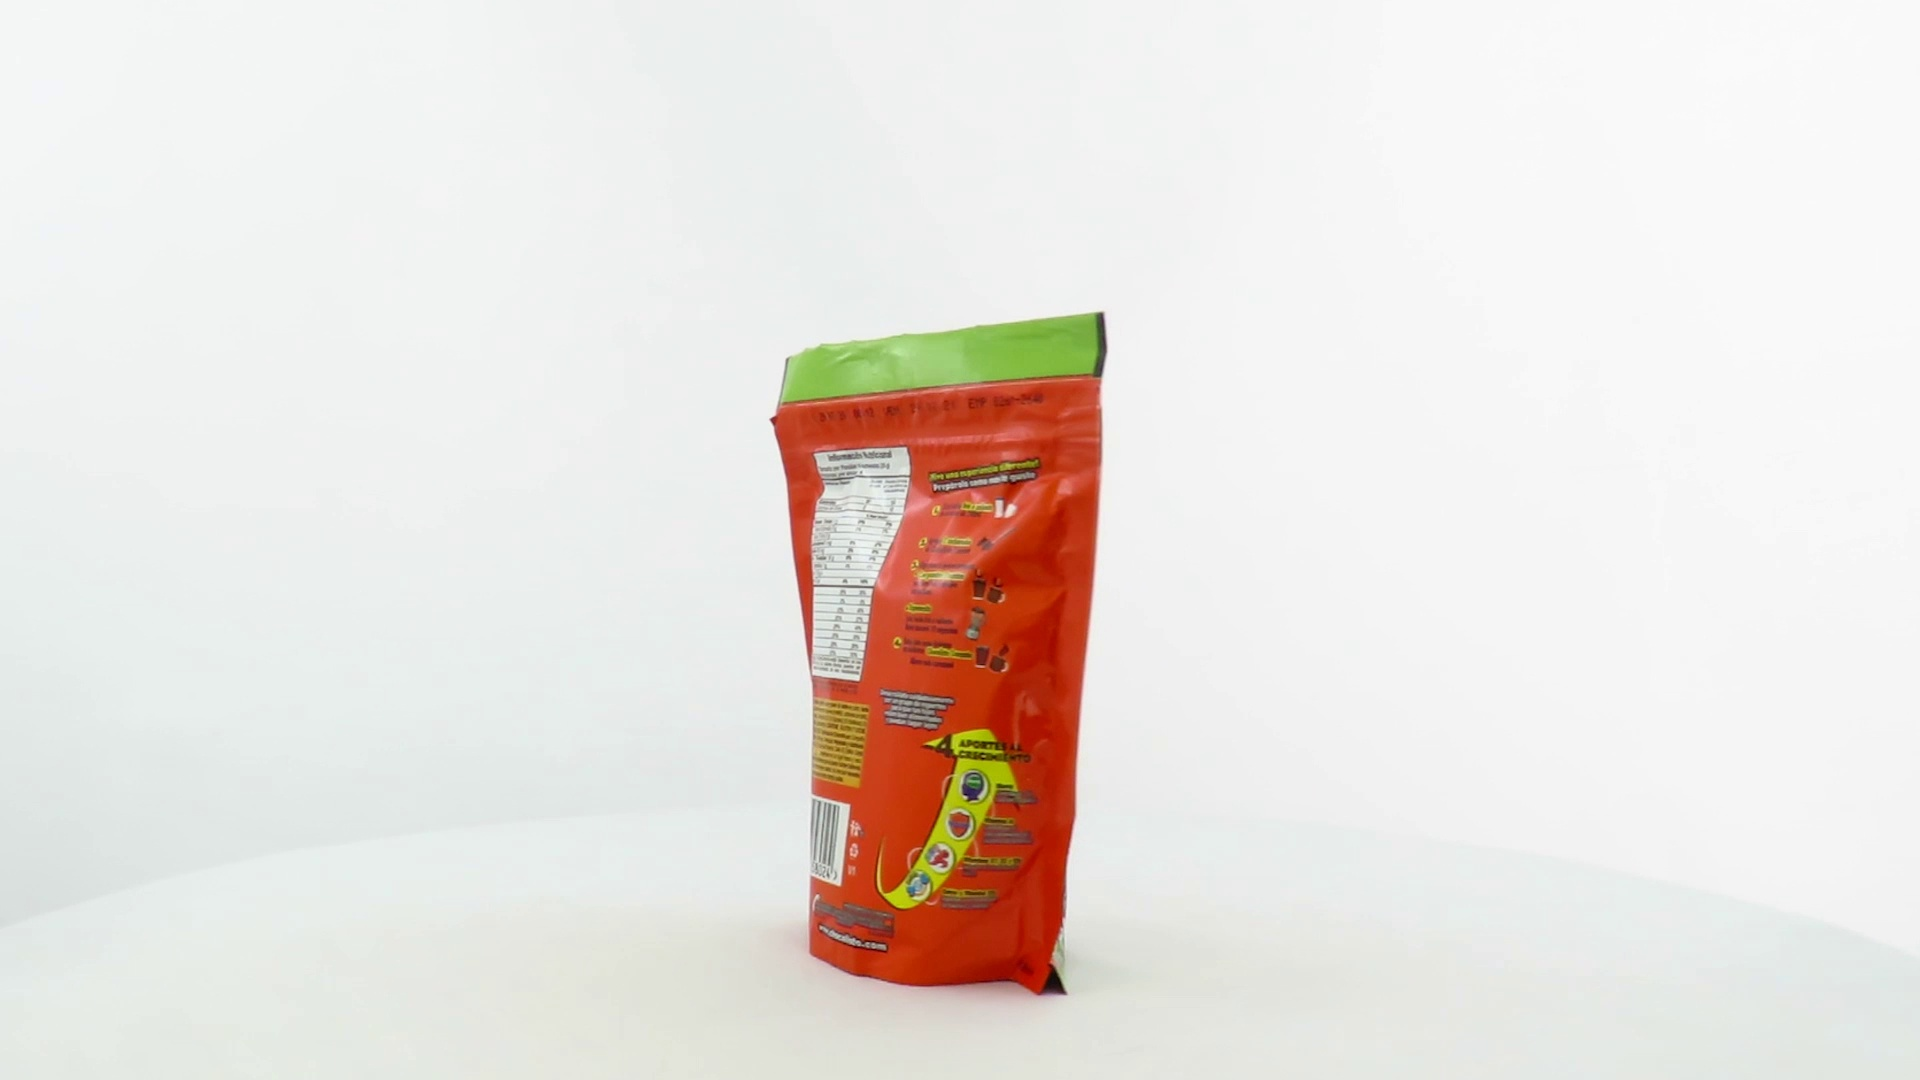COL0170102DYP10000: (764, 307, 1113, 1002)
